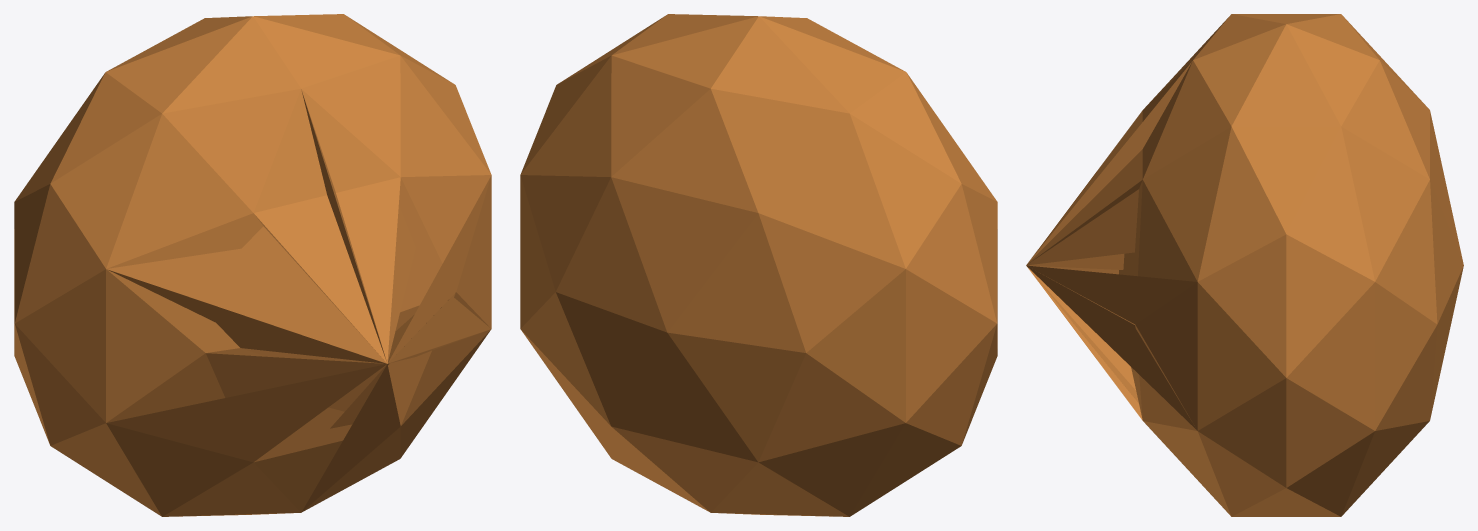
File: nil_link_mesh.dae
The picture shows the model from 3 angles, left to right: view 1: azimuth 30°, elevation 25°; view 2: azimuth 150°, elevation 25°; view 3: azimuth 270°, elevation 25°; orthographic projection. The views are drawn at different scales.
Visible parts, largest first — view 1: nil_link (×2); view 2: nil_link (×2); view 3: nil_link (×2).
Part boxes in pixels (box(x1,y1,x2,y2)): nil_link (×2): box(14, 14, 491, 516); nil_link (×2): box(520, 14, 997, 516); nil_link (×2): box(1026, 14, 1463, 516).
Size of the model in its own units: 0.09 by 0.09 by 0.074.
